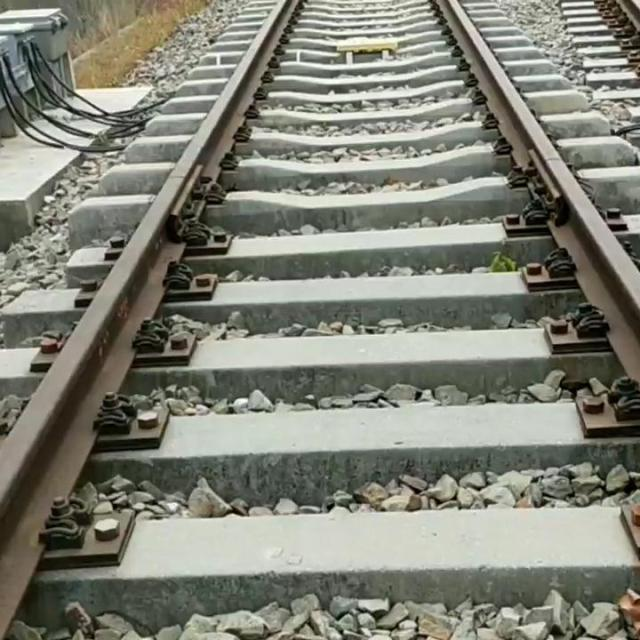rail: (1, 1, 298, 640), (440, 1, 640, 382)
